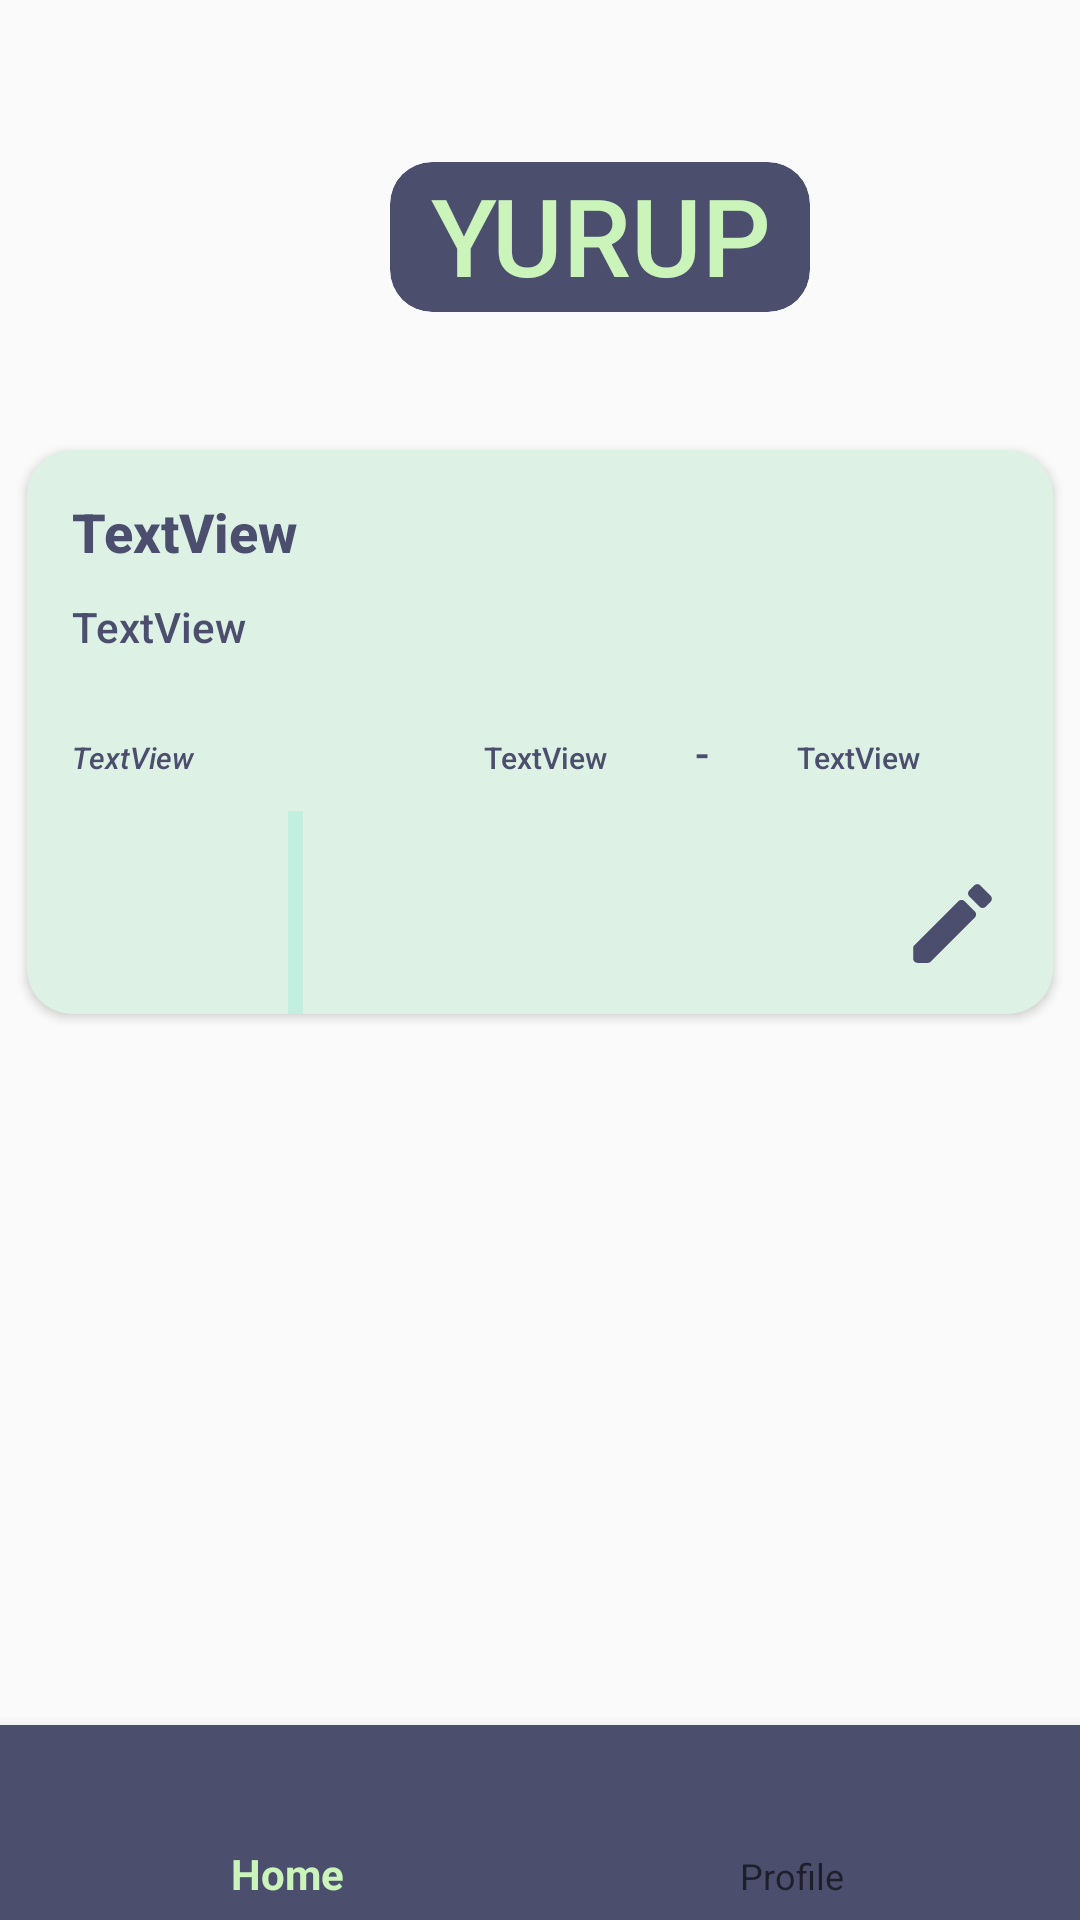

Icon bounding boxes for this 1080×1920 phone screenshot, format [x1=x1, y1=y1, x2=x2, y2=y2]:
editbtn: [x1=913, y1=884, x2=992, y2=963]
